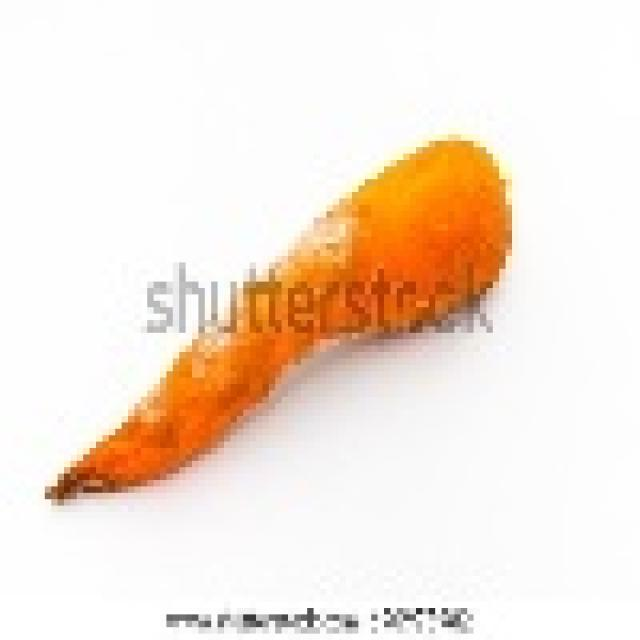Stale_Carrot: (49, 95, 527, 539)
